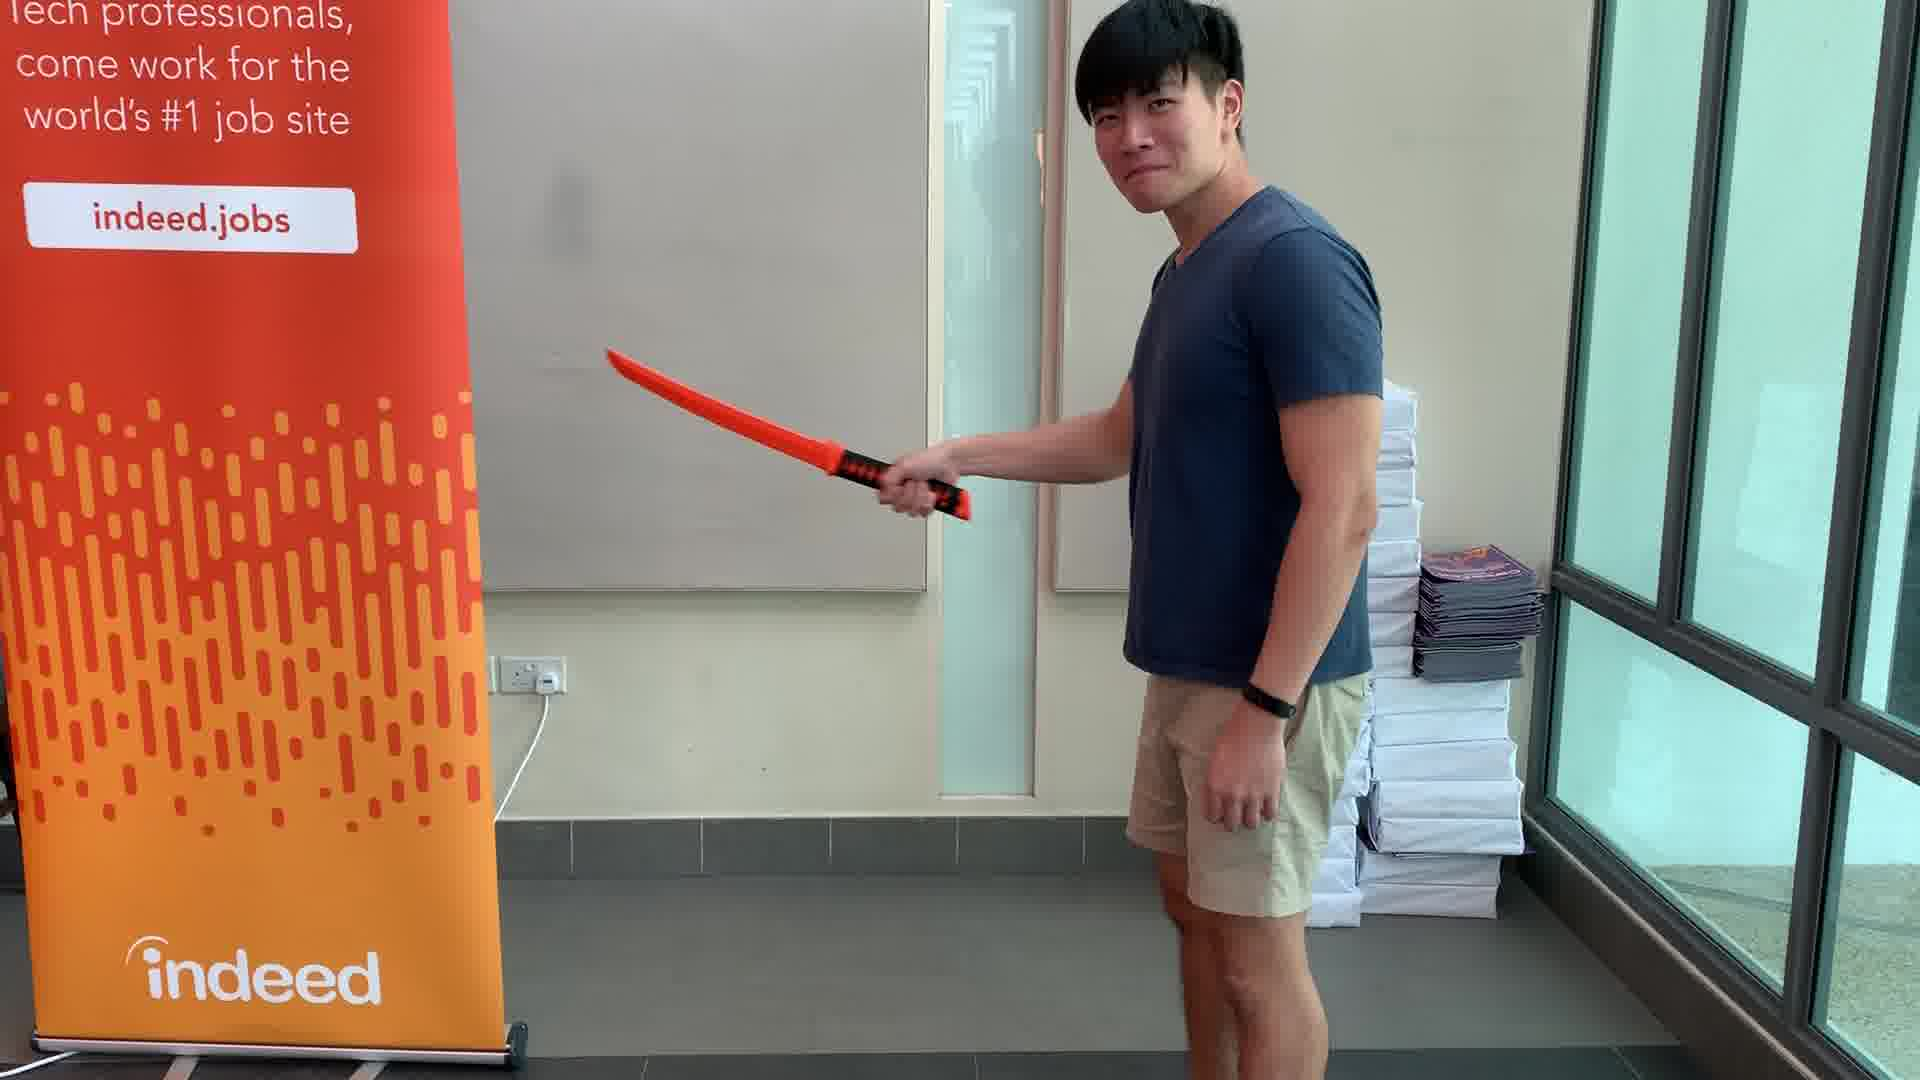knife: (587, 338, 978, 527)
